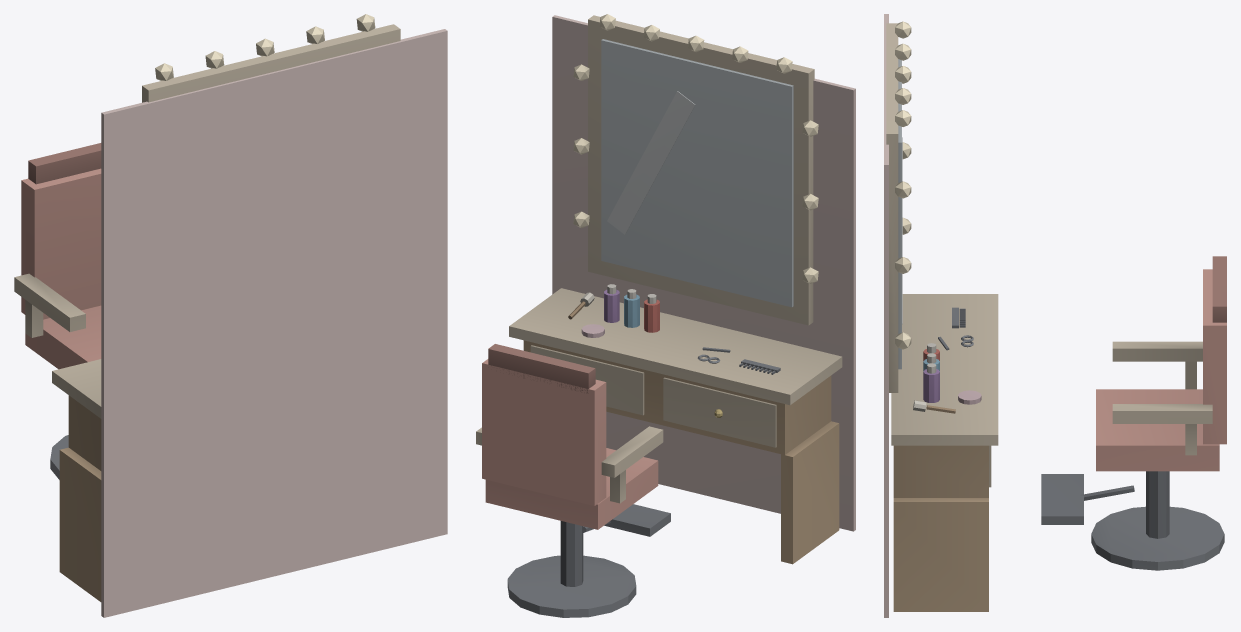
File: wear_vanity.glb
3 views of the same model, side by side, from view 1: azimuth 30°, elevation 25°; view 2: azimuth 150°, elevation 25°; view 3: azimuth 270°, elevation 25° (orthographic). The views are drawn at different scales.
Visible parts, largest first — view 1: wear.vanity; view 2: wear.vanity; view 3: wear.vanity.
Part boxes in pixels (bbox=[...]): wear.vanity: bbox=[14, 14, 447, 617]; wear.vanity: bbox=[476, 14, 855, 617]; wear.vanity: bbox=[884, 14, 1226, 617].
Size of the model in its own units: 1.5 by 2.21 by 1.44.
